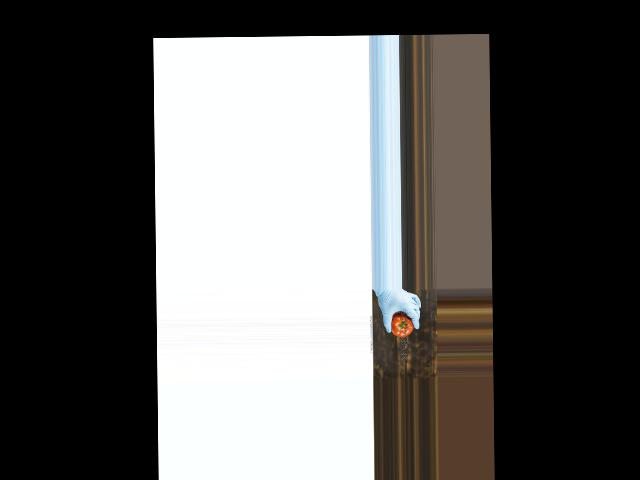tomato: (390, 312, 413, 338)
